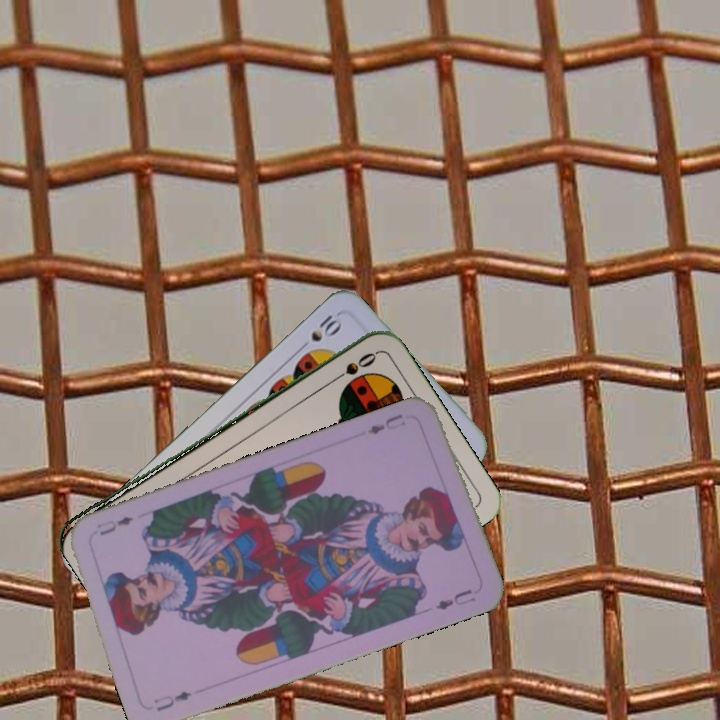EU: (149, 687, 195, 715), (363, 410, 409, 437)
S10: (306, 310, 345, 345)
SO: (326, 348, 379, 386)
